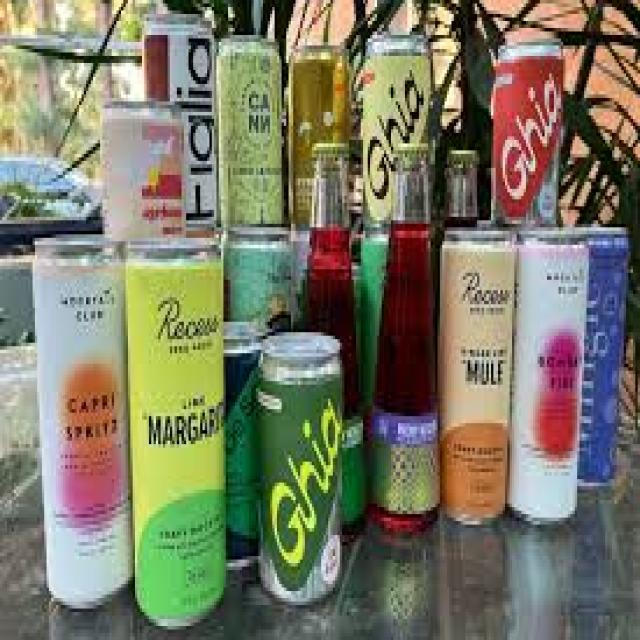Cans: (119, 235, 232, 630), (28, 224, 140, 615), (426, 220, 517, 528), (252, 325, 344, 612), (512, 227, 591, 525), (214, 28, 291, 231)
